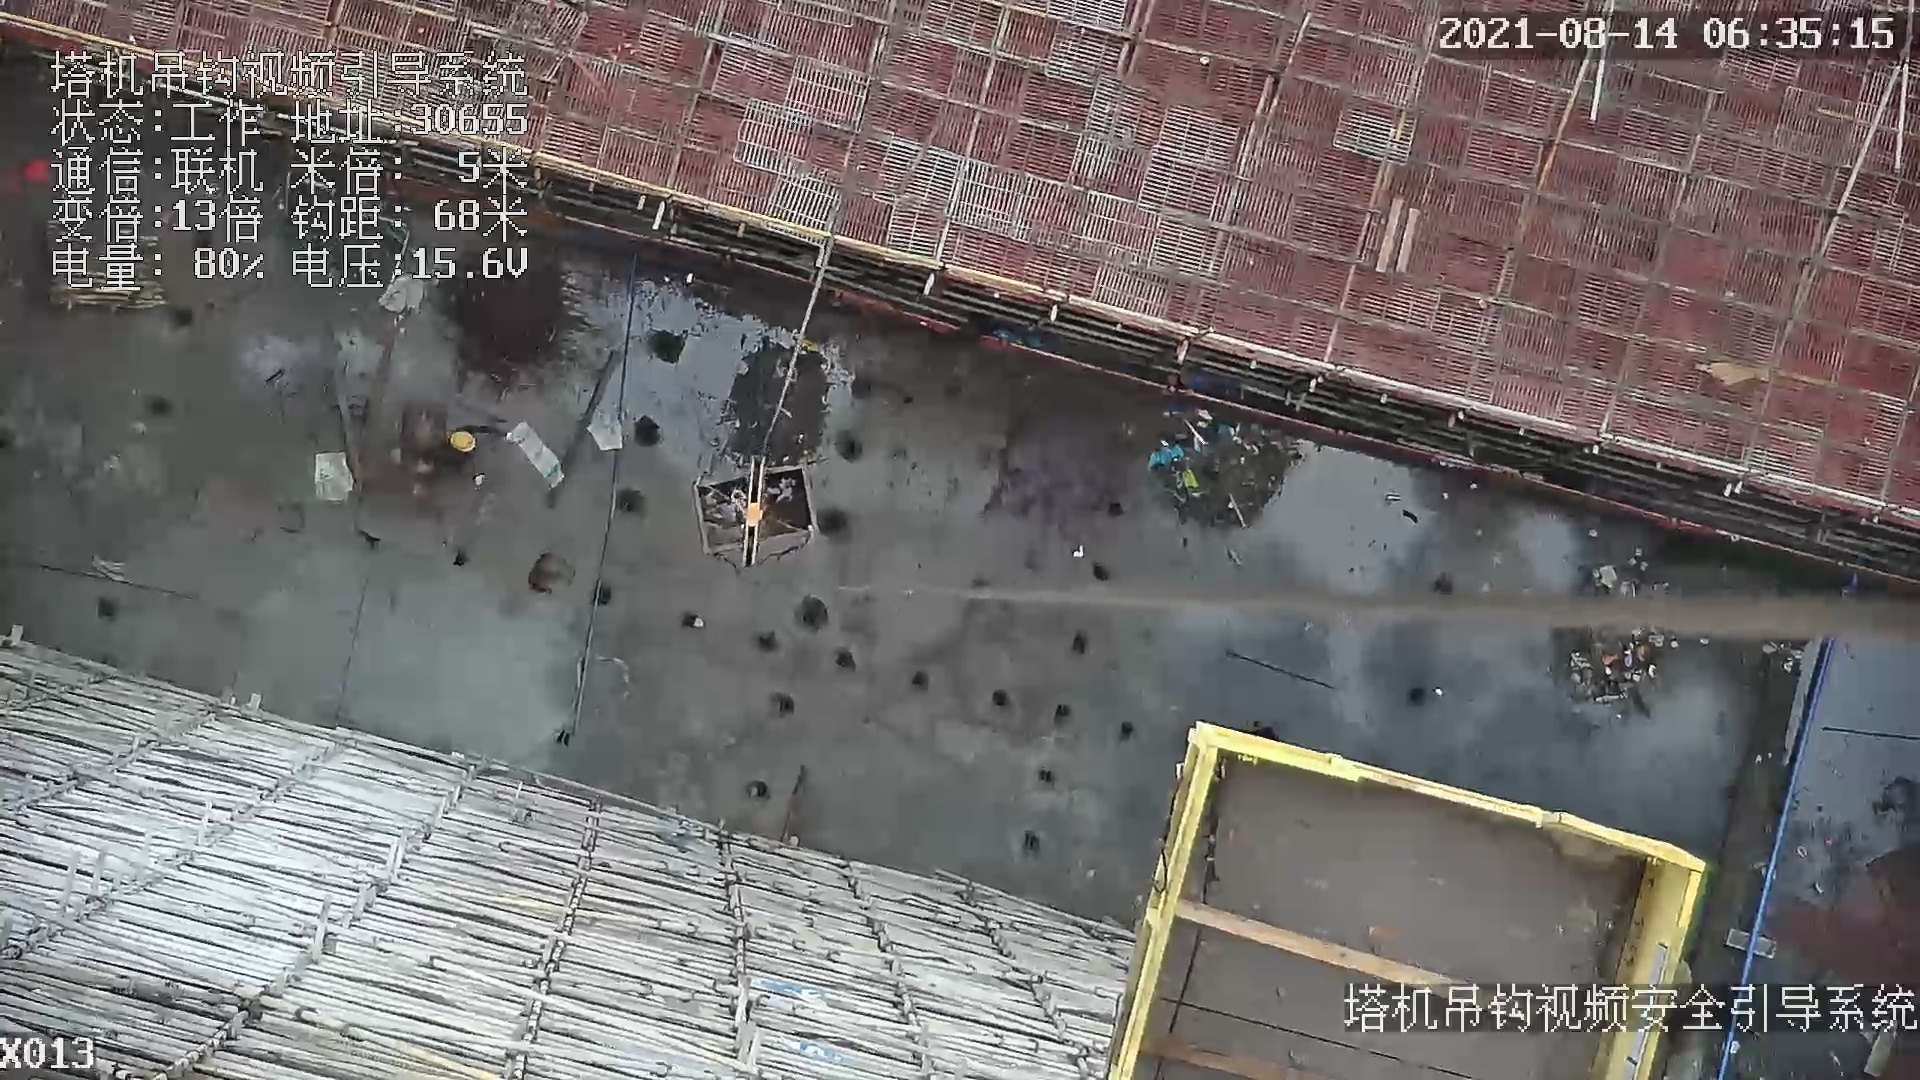helmet: (447, 429, 478, 453)
hook: (729, 451, 765, 567)
hopper: (692, 465, 824, 562)
person: (438, 417, 514, 489)
